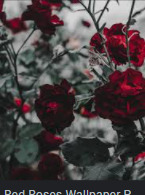RedRose: (93, 67, 145, 119), (91, 25, 143, 65), (40, 83, 76, 131), (36, 154, 64, 181), (29, 127, 64, 148), (4, 16, 31, 34), (39, 15, 59, 36), (37, 0, 66, 10), (14, 99, 26, 110), (23, 107, 33, 116)
